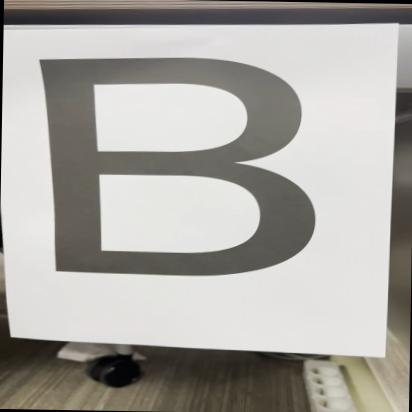seat: (9, 44, 346, 290)
